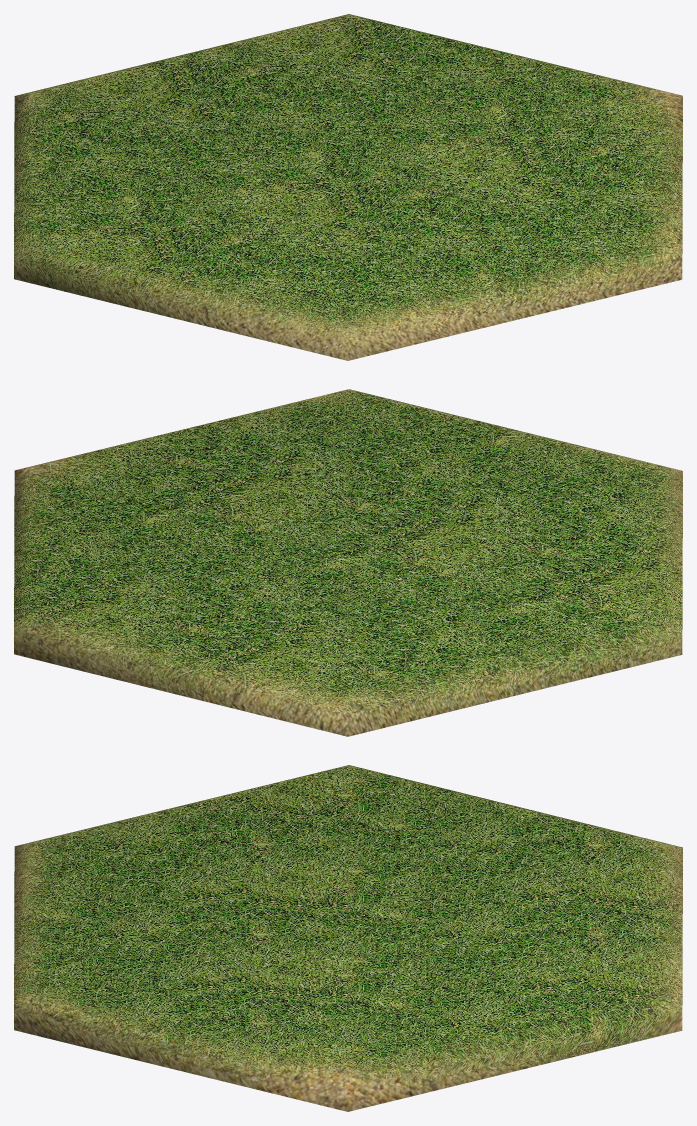
The model's file is brownhex.FBX.
3 renders of one model, top to bottom at view 1: azimuth 30°, elevation 25°; view 2: azimuth 150°, elevation 25°; view 3: azimuth 270°, elevation 25°, orthographic.
Visible parts, largest first — view 1: Hexa; view 2: Hexa; view 3: Hexa.
Part boxes in pixels (x1,y1,x2,y2): Hexa: [14, 14, 682, 360]; Hexa: [14, 389, 682, 736]; Hexa: [14, 765, 682, 1111].
Size of the model in its own units: 961 by 39.88 by 833.
Materials: 1 (1 with a texture image).
